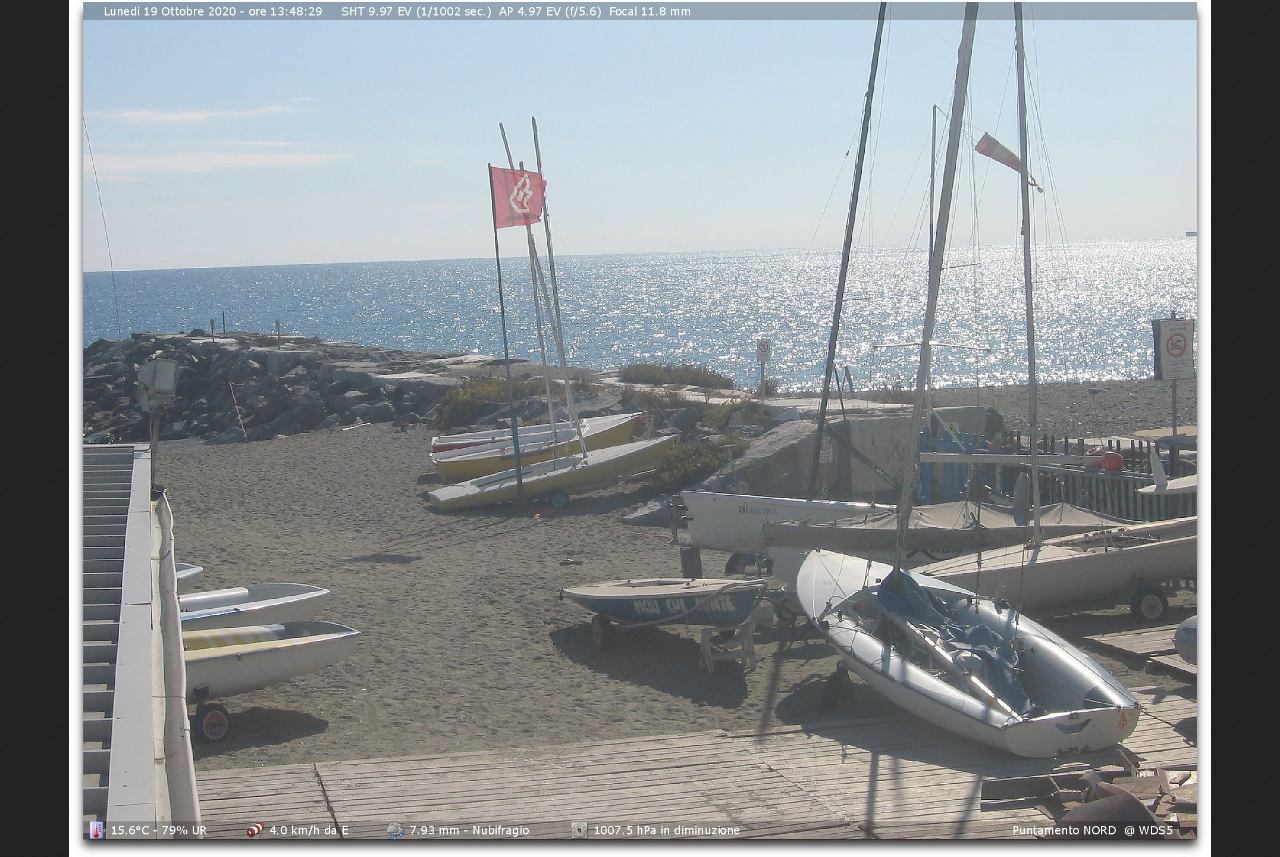yes: (487, 165, 550, 230)
